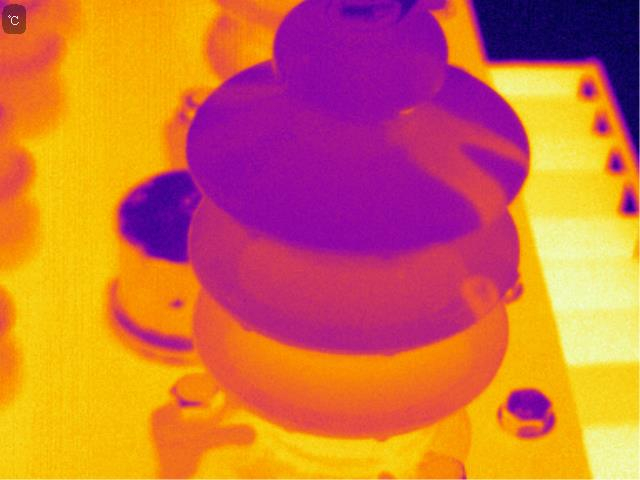Oil: (240, 88, 486, 172), (382, 99, 510, 213), (465, 264, 518, 329), (229, 63, 288, 107), (378, 341, 407, 370), (232, 312, 263, 336), (370, 424, 397, 448)
